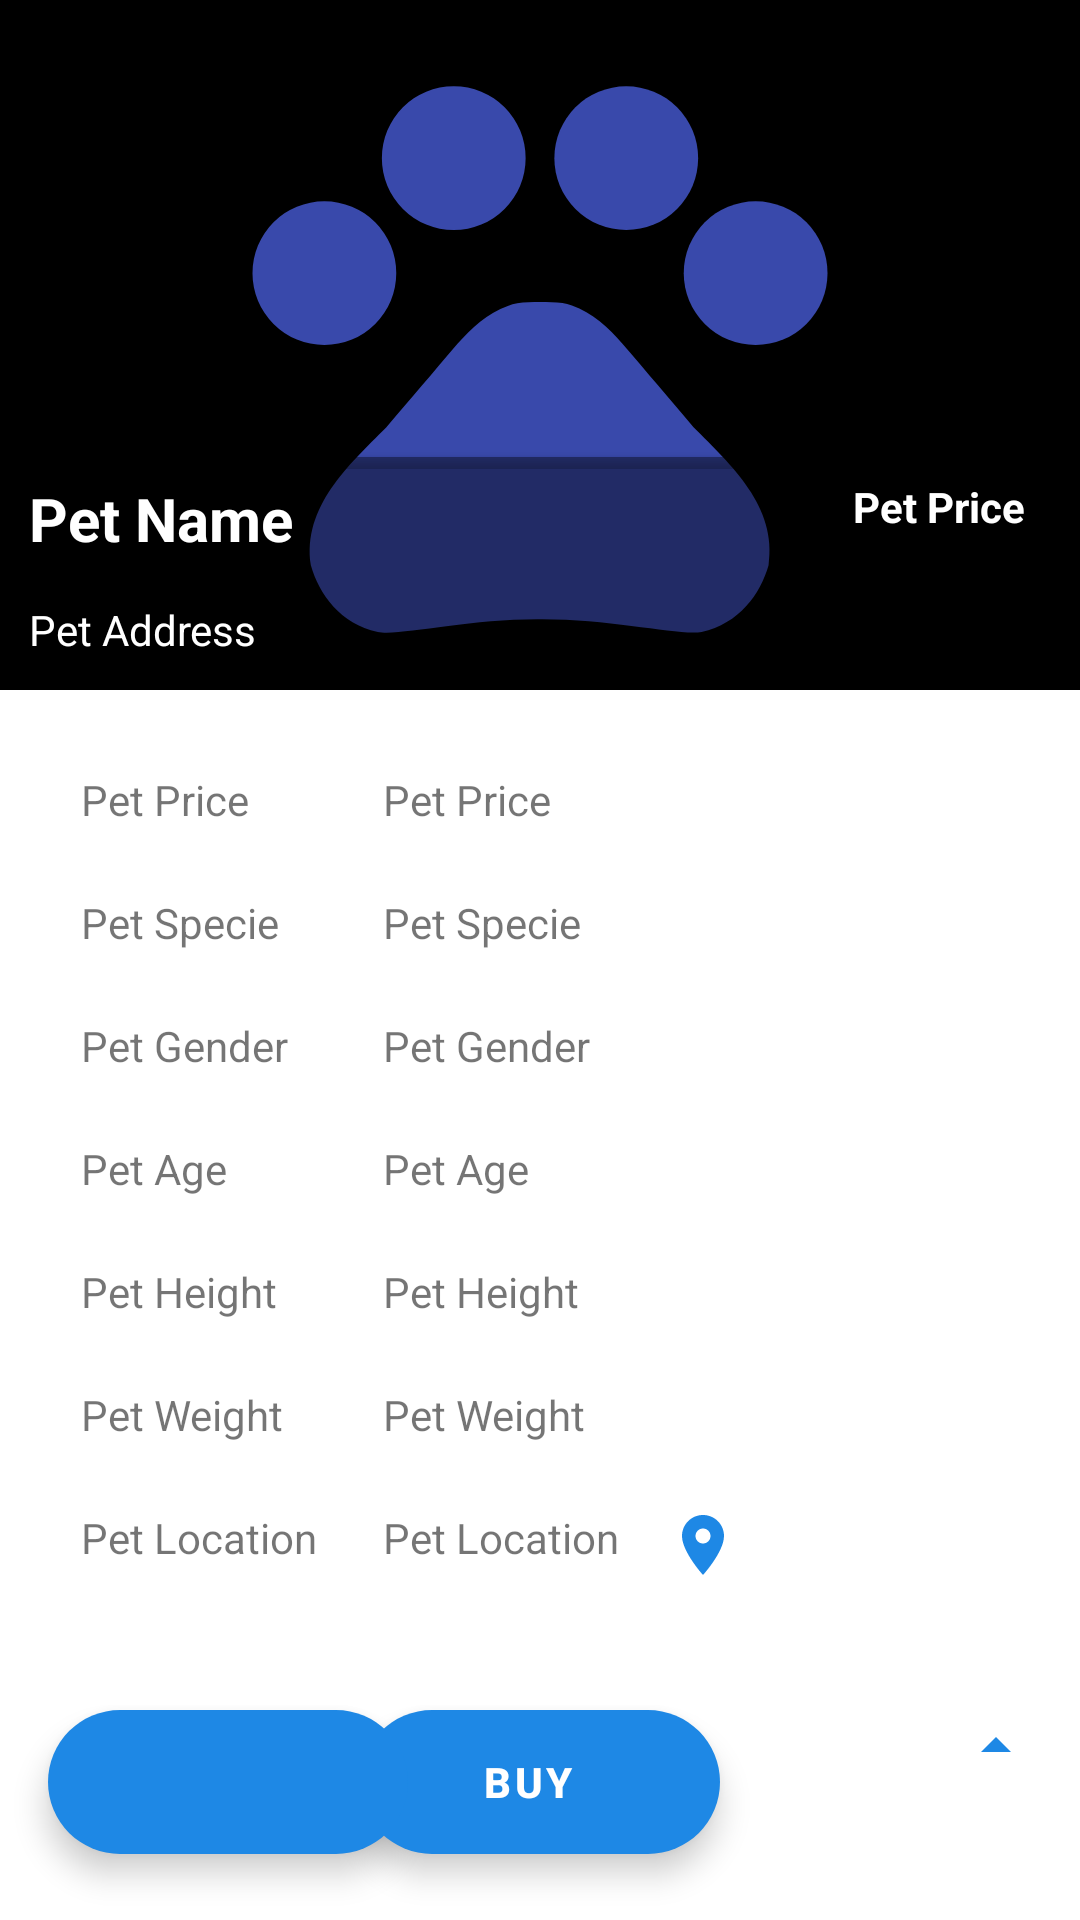

Point at icon controls on the screen. Image size 1080w x 1920h, points as point (x, y).
arrow drop up: point (996, 1744)
